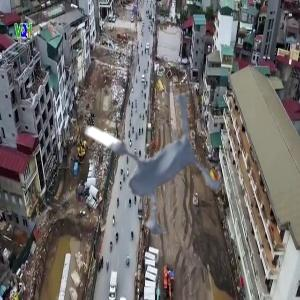drone: (49, 52, 253, 256)
